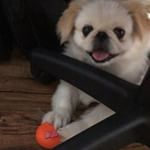puppy: (51, 1, 150, 66)
